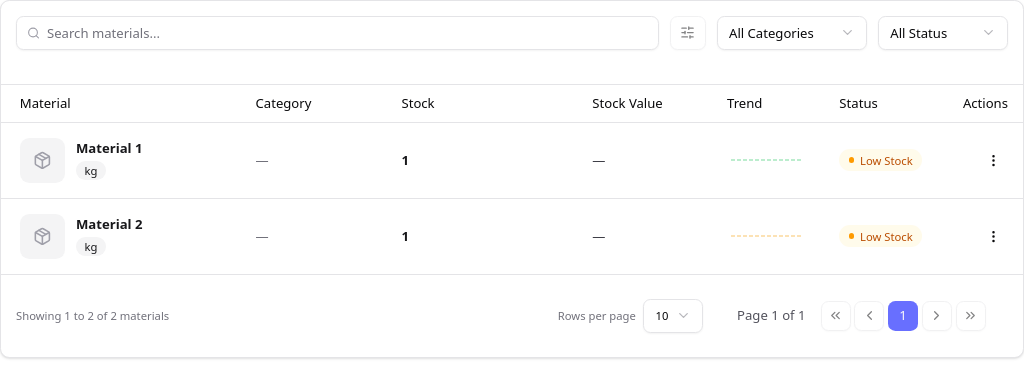
the Low Stock badge in the materials table › says how many low materials the loaded list cannot show
Click the dropdown labelled "All Status": [943, 33] box [878,16,1008,50]
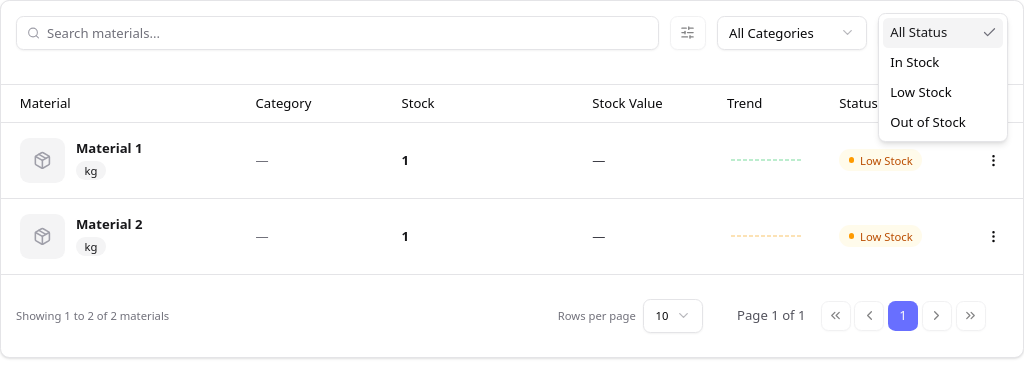
Click the option "Low Stock": [921, 92] box [890,83,952,101]
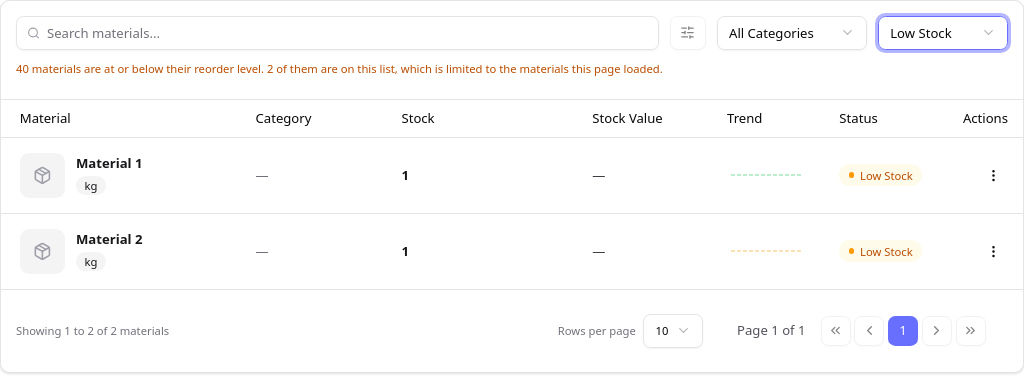
Now the text "40 materials are at or below their reorder level" is shown, box [16,61,663,76]
Now the text "2 of them are on this list" is shown, box [16,61,663,76]
